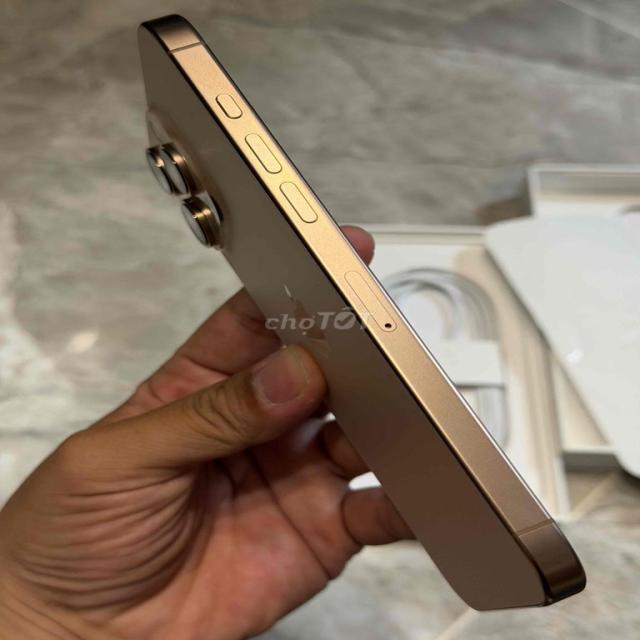gen_16: (139, 16, 584, 609)
